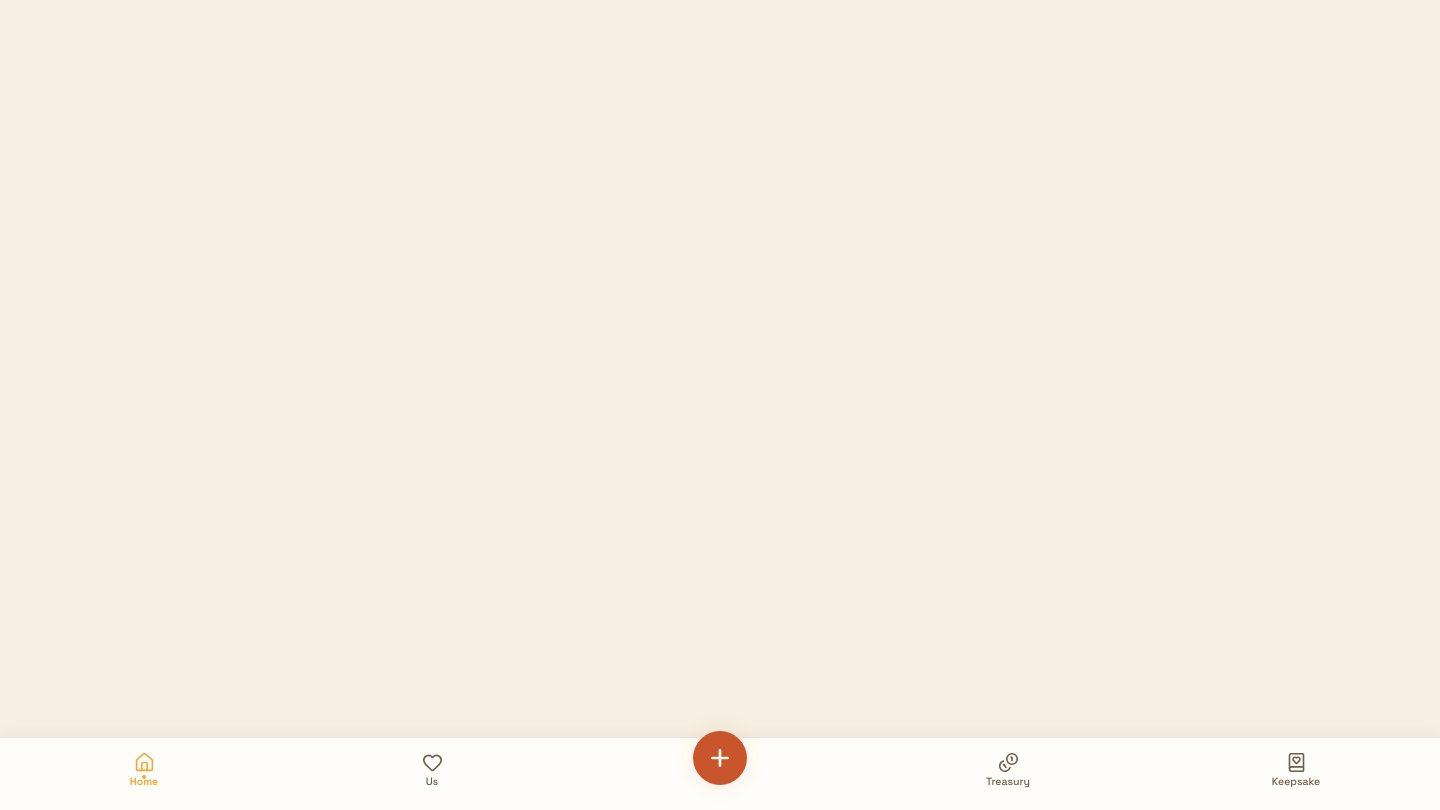
BottomNav › toggles aria-expanded and aria-label as the Create sheet opens and closes
Click the button with test id "nav-create-btn" at (720, 758), box [693, 731, 747, 785]
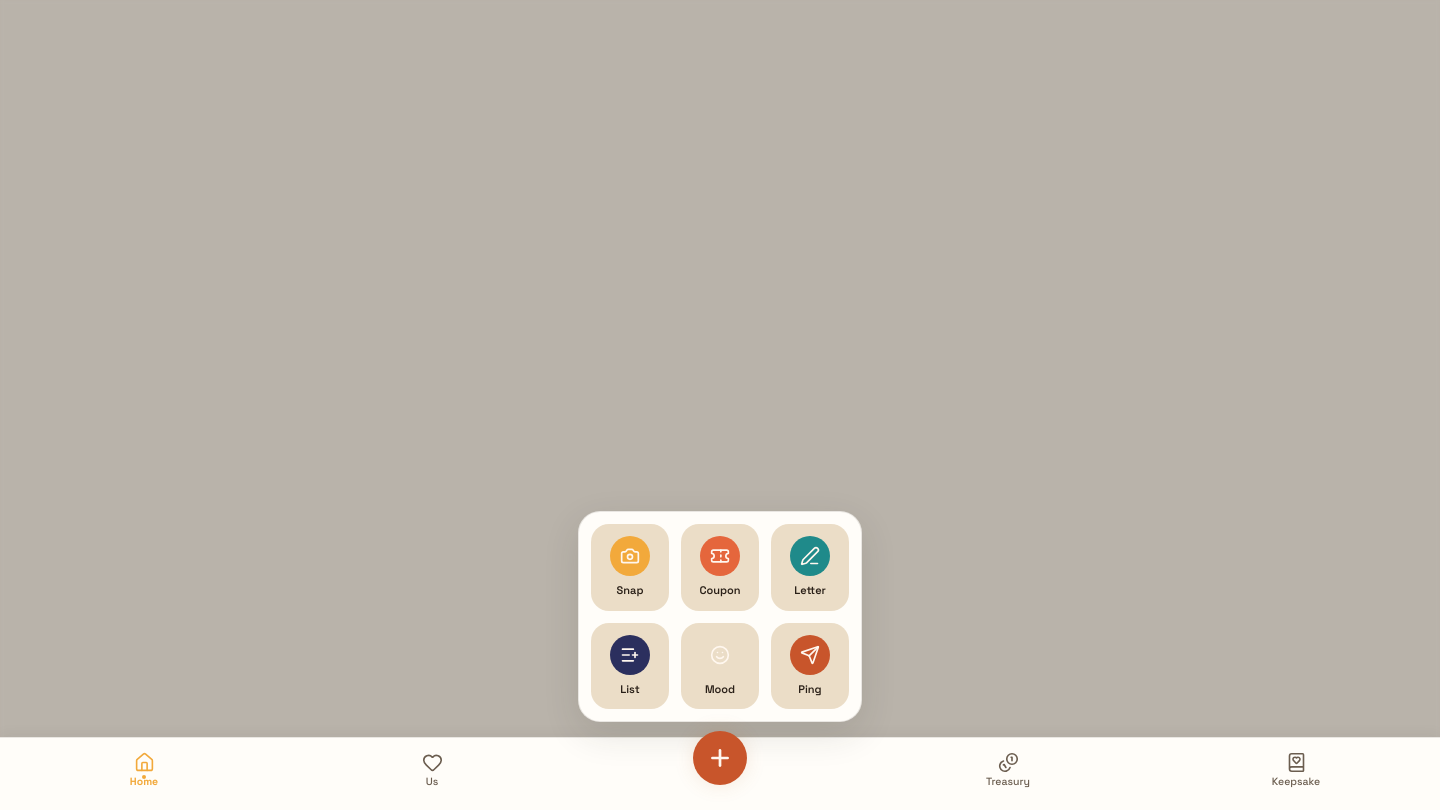
Check: the button with test id "nav-create-btn" is expanded
Check: the link with test id "create-snap" is shown, box [591, 524, 669, 610]
Click the button with test id "nav-create-btn" at (720, 758), box [693, 731, 747, 785]
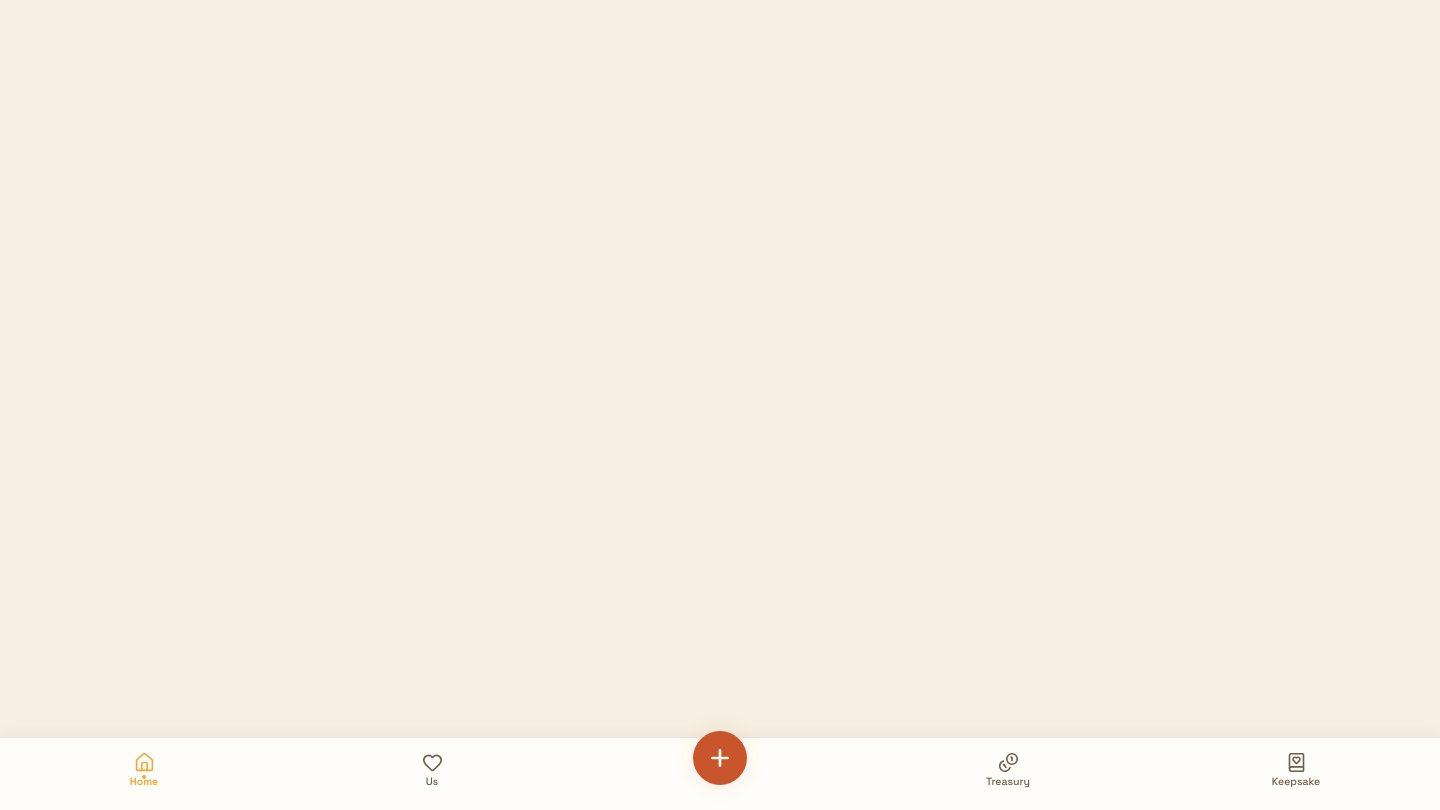
Check: the button with test id "nav-create-btn" is collapsed, box [693, 731, 747, 785]
Check: the link with test id "create-snap" is gone
